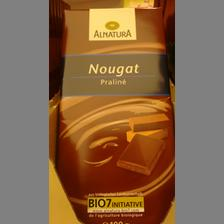Schokolade: (55, 6, 173, 222)
